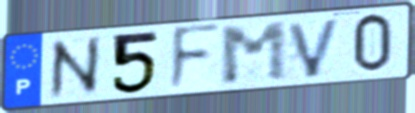0: (349, 11, 397, 77)
5: (109, 29, 164, 96)
F: (166, 21, 224, 96)
M: (217, 20, 291, 88)
N: (48, 33, 104, 102)
V: (285, 16, 345, 80)
